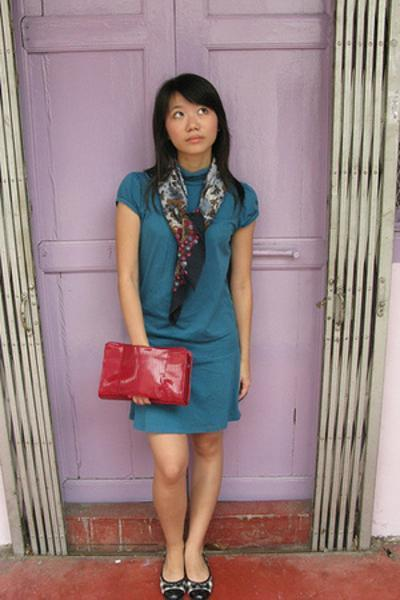bag: (98, 342, 191, 405)
dress: (116, 167, 258, 433)
shoe: (156, 564, 211, 599)
